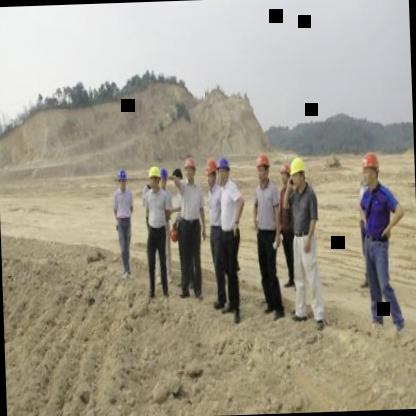head: (172, 164, 182, 192)
helmet: (359, 151, 384, 189), (288, 153, 311, 193), (254, 148, 272, 188), (202, 154, 218, 190), (217, 152, 232, 187), (277, 158, 291, 189), (182, 154, 196, 181), (148, 162, 161, 190), (116, 166, 130, 188), (160, 166, 168, 193)
